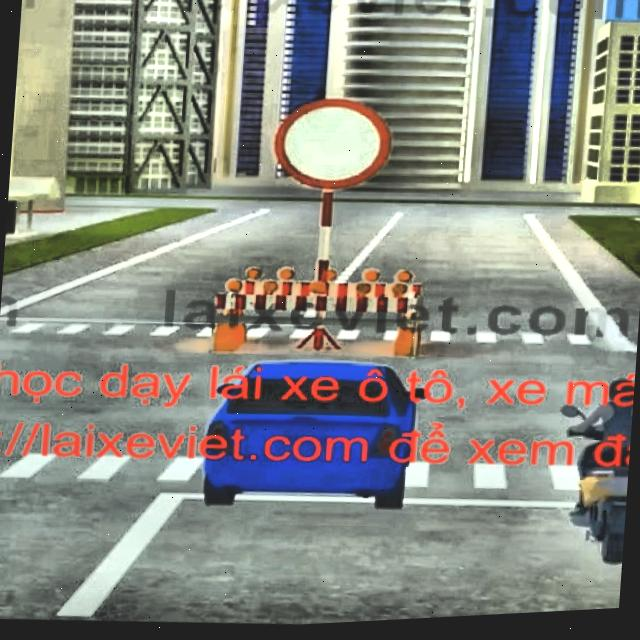Bien_bao_duong_cam: (268, 90, 394, 196)
